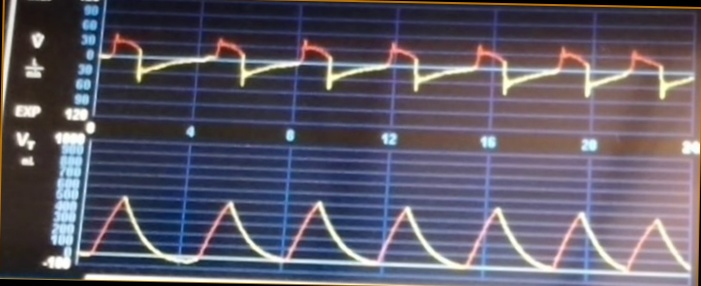Normal Flow: (103, 20, 693, 115)
Normal Volume: (86, 184, 689, 275)
